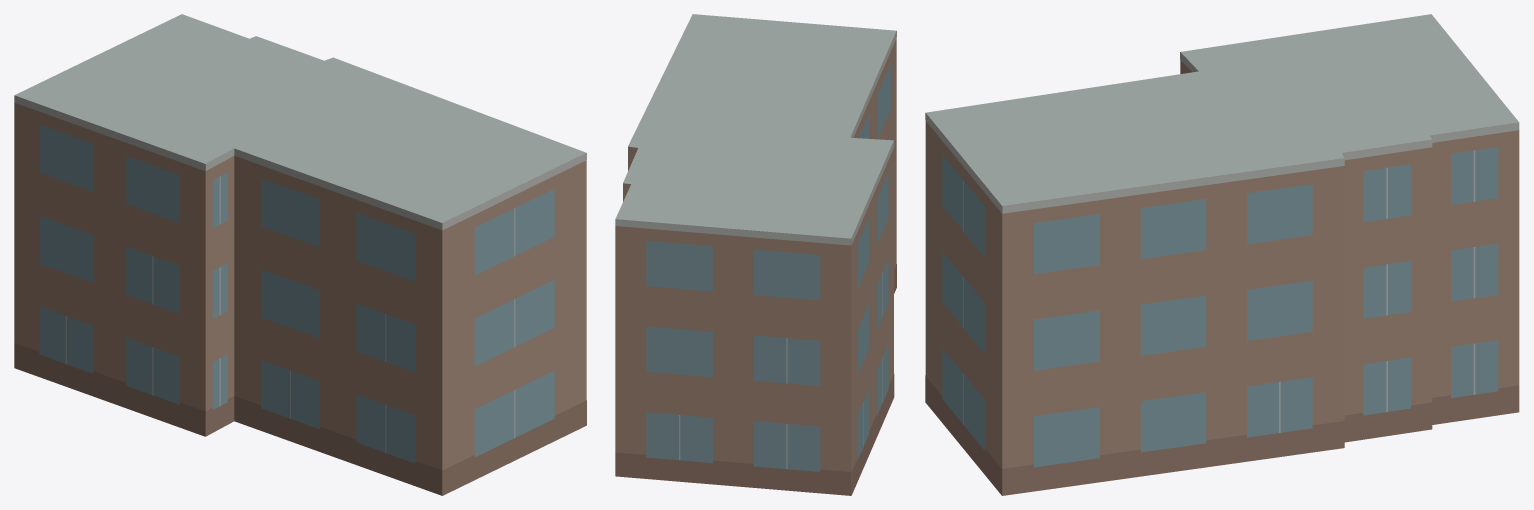
Rendered from survey-upis-32662697.glb.
3 views of the same model, side by side, from view 1: azimuth 30°, elevation 25°; view 2: azimuth 150°, elevation 25°; view 3: azimuth 270°, elevation 25° (orthographic). The views are drawn at different scales.
Visible parts, largest first — view 1: survey-upis-32662697.tmp; view 2: survey-upis-32662697.tmp; view 3: survey-upis-32662697.tmp.
Boxes of the visible parts, box(x1,y1,x2,y2) form: survey-upis-32662697.tmp: box(14, 14, 586, 495); survey-upis-32662697.tmp: box(615, 14, 896, 495); survey-upis-32662697.tmp: box(925, 14, 1519, 495).
Size of the model in its own units: 13.02 by 9.15 by 17.
